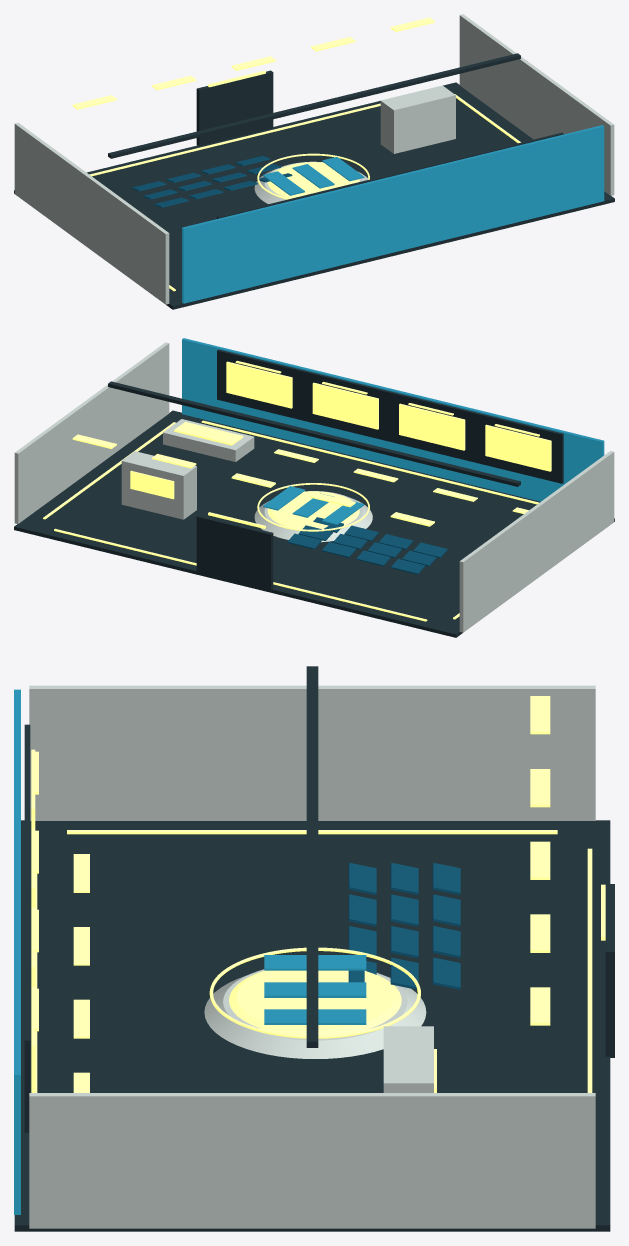
The model's file is solar-control-room.glb.
The picture shows the model from 3 angles, top to bottom: view 1: azimuth 30°, elevation 25°; view 2: azimuth 150°, elevation 25°; view 3: azimuth 270°, elevation 25°; orthographic projection. The views are drawn at different scales.
Visible parts, largest first — view 1: rj-solar-control-room-interior-rear-glass-wall, rj-solar-control-room-interior-raised-interior-floor, rj-solar-control-room-interior-left-wall-frame, rj-solar-control-room-interior-right-wall-frame, rj-solar-control-room-interior-inverter-rack, rj-solar-control-room-interior-exit-door-frame, rj-solar-control-room-interior-ceiling-spine, rj-solar-control-room-interior-hologram-map-table, rj-solar-control-room-interior-screen-wall-backplane, rj-solar-control-room-interior-front-wayfinding-rail, rj-solar-control-room-interior-decision-table-base, rj-solar-control-room-interior-table-slate-1 (+3 smaller); view 2: rj-solar-control-room-interior-raised-interior-floor, rj-solar-control-room-interior-left-wall-frame, rj-solar-control-room-interior-rear-glass-wall, rj-solar-control-room-interior-right-wall-frame, rj-solar-control-room-interior-screen-wall-backplane, rj-solar-control-room-interior-exit-door-frame, rj-solar-control-room-interior-inverter-rack, rj-solar-control-room-interior-ceiling-spine, rj-solar-control-room-interior-main-display-3, rj-solar-control-room-interior-main-display-4, rj-solar-control-room-interior-main-display-1, rj-solar-control-room-interior-main-display-2 (+11 smaller); view 3: rj-solar-control-room-interior-raised-interior-floor, rj-solar-control-room-interior-right-wall-frame, rj-solar-control-room-interior-left-wall-frame, rj-solar-control-room-interior-hologram-map-table, rj-solar-control-room-interior-decision-table-base, rj-solar-control-room-interior-ceiling-spine, rj-solar-control-room-interior-rear-glass-wall, rj-solar-control-room-interior-inverter-rack, rj-solar-control-room-interior-screen-wall-backplane, rj-solar-control-room-interior-left-wayfinding-rail, rj-solar-control-room-interior-hologram-data-ring, rj-solar-control-room-interior-exit-door-frame (+18 smaller).
Boxes of the visible parts, x1,y1,x2,y2 form: rj-solar-control-room-interior-rear-glass-wall: [182, 125, 604, 303]; rj-solar-control-room-interior-raised-interior-floor: [14, 82, 614, 309]; rj-solar-control-room-interior-left-wall-frame: [14, 122, 169, 304]; rj-solar-control-room-interior-right-wall-frame: [459, 14, 614, 195]; rj-solar-control-room-interior-inverter-rack: [380, 85, 455, 153]; rj-solar-control-room-interior-exit-door-frame: [196, 70, 273, 146]; rj-solar-control-room-interior-ceiling-spine: [108, 53, 520, 158]; rj-solar-control-room-interior-hologram-map-table: [267, 162, 359, 198]; rj-solar-control-room-interior-screen-wall-backplane: [217, 132, 563, 218]; rj-solar-control-room-interior-front-wayfinding-rail: [89, 103, 380, 176]; rj-solar-control-room-interior-decision-table-base: [254, 161, 367, 203]; rj-solar-control-room-interior-table-slate-1: [263, 171, 304, 195]; rj-solar-control-room-interior-raised-interior-floor: [14, 410, 614, 637]; rj-solar-control-room-interior-left-wall-frame: [459, 451, 614, 632]; rj-solar-control-room-interior-rear-glass-wall: [182, 338, 604, 501]; rj-solar-control-room-interior-right-wall-frame: [14, 342, 169, 523]; rj-solar-control-room-interior-screen-wall-backplane: [217, 349, 563, 483]; rj-solar-control-room-interior-exit-door-frame: [196, 515, 273, 590]; rj-solar-control-room-interior-inverter-rack: [121, 451, 196, 519]; rj-solar-control-room-interior-ceiling-spine: [108, 381, 520, 486]; rj-solar-control-room-interior-main-display-3: [312, 382, 378, 429]; rj-solar-control-room-interior-main-display-4: [226, 361, 292, 408]; rj-solar-control-room-interior-main-display-1: [485, 424, 551, 471]; rj-solar-control-room-interior-main-display-2: [399, 403, 465, 450]; rj-solar-control-room-interior-raised-interior-floor: [14, 820, 610, 1231]; rj-solar-control-room-interior-right-wall-frame: [29, 1093, 595, 1228]; rj-solar-control-room-interior-left-wall-frame: [29, 685, 595, 820]; rj-solar-control-room-interior-hologram-map-table: [229, 970, 401, 1035]; rj-solar-control-room-interior-decision-table-base: [204, 969, 426, 1058]; rj-solar-control-room-interior-ceiling-spine: [306, 666, 318, 1047]; rj-solar-control-room-interior-rear-glass-wall: [14, 689, 20, 1214]; rj-solar-control-room-interior-inverter-rack: [383, 1026, 433, 1092]; rj-solar-control-room-interior-screen-wall-backplane: [24, 724, 30, 1132]; rj-solar-control-room-interior-left-wayfinding-rail: [67, 830, 557, 834]; rj-solar-control-room-interior-hologram-data-ring: [209, 947, 420, 1038]; rj-solar-control-room-interior-exit-door-frame: [605, 884, 614, 1057].
Size of the model in its own units: 16.64 by 3.31 by 10.29.
